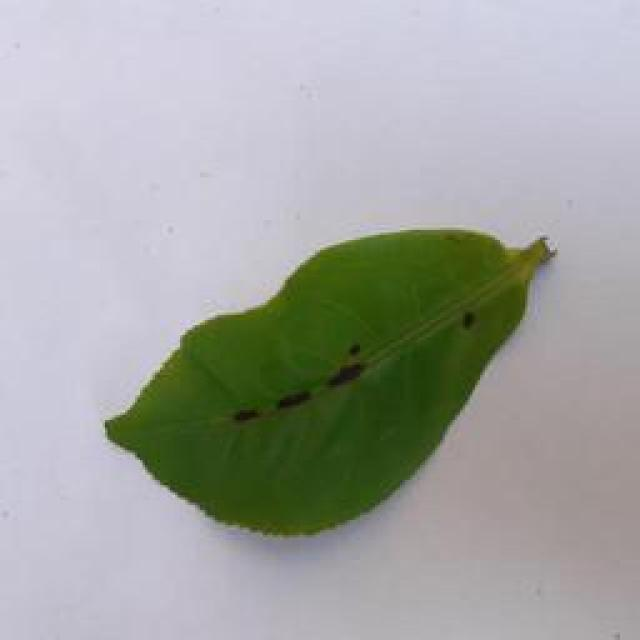Helopeltis: (104, 207, 572, 551)
